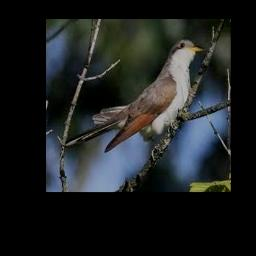Cuckoo: (92, 39, 203, 153)
